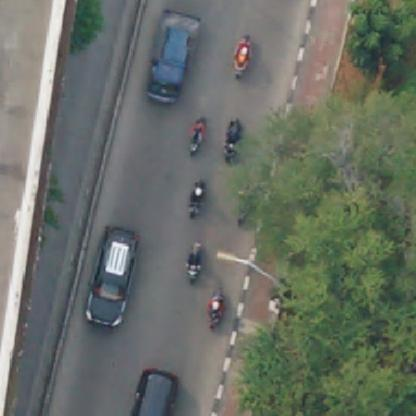Car: (138, 10, 206, 102), (84, 226, 140, 328), (127, 365, 181, 415)
Motorcycle: (233, 38, 254, 82), (224, 116, 245, 159), (206, 289, 227, 328), (186, 182, 208, 218), (186, 242, 204, 284), (190, 126, 206, 154)
